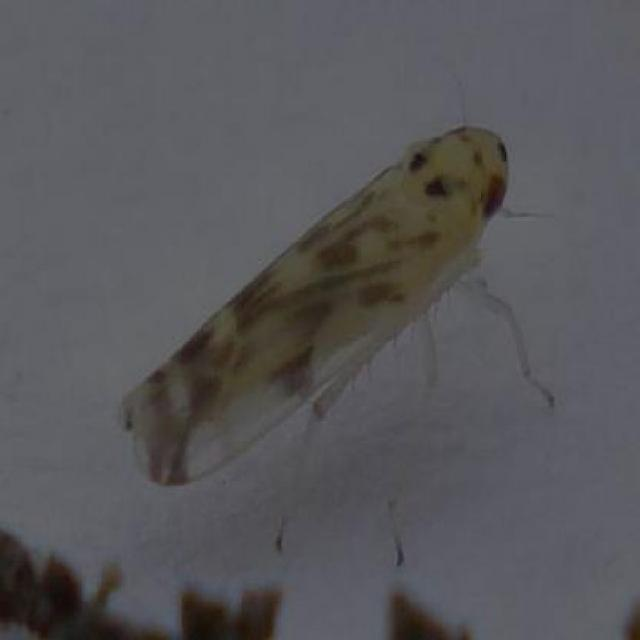green-leafhopper: (123, 116, 555, 562)
